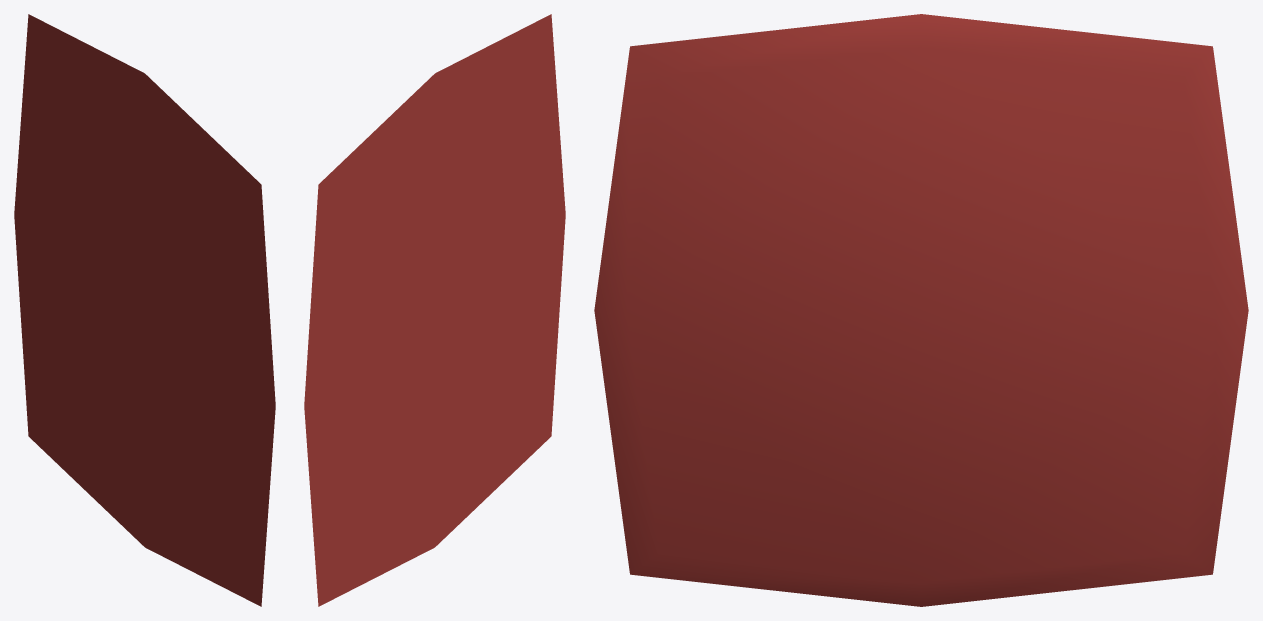
File: rect_lod2.glb
The picture shows the model from 3 angles, left to right: view 1: azimuth 30°, elevation 25°; view 2: azimuth 150°, elevation 25°; view 3: azimuth 270°, elevation 25°; orthographic projection. The views are drawn at different scales.
Parts seen in each view (by area): view 1: rect_lod2; view 2: rect_lod2; view 3: rect_lod2.
Part boxes in pixels (box(x1,y1,x2,y2)): rect_lod2: box(14, 14, 275, 606); rect_lod2: box(304, 14, 565, 606); rect_lod2: box(594, 14, 1248, 606).
Bounding box in the file's own units: 0.018 × 1 × 1.
